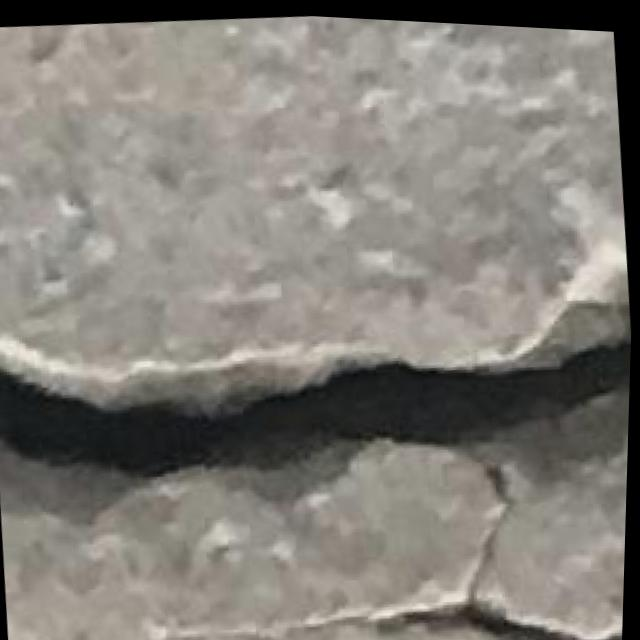Crack: (0, 240, 634, 523), (127, 439, 630, 640)
